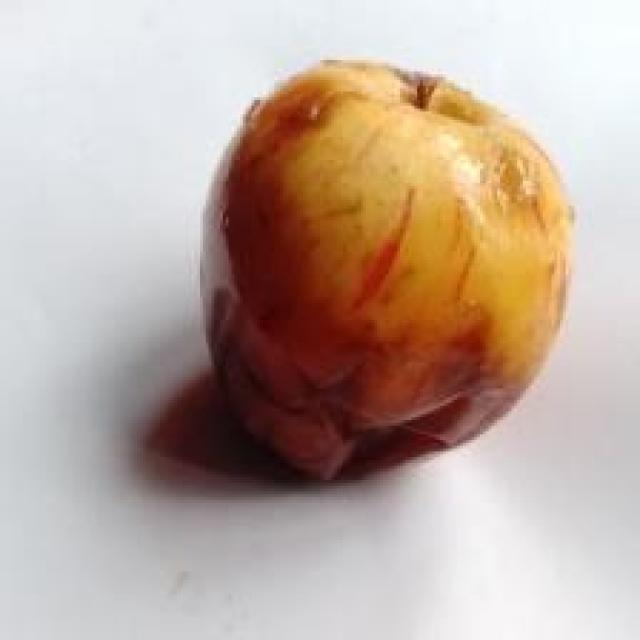rotten apple: (120, 26, 600, 532)
